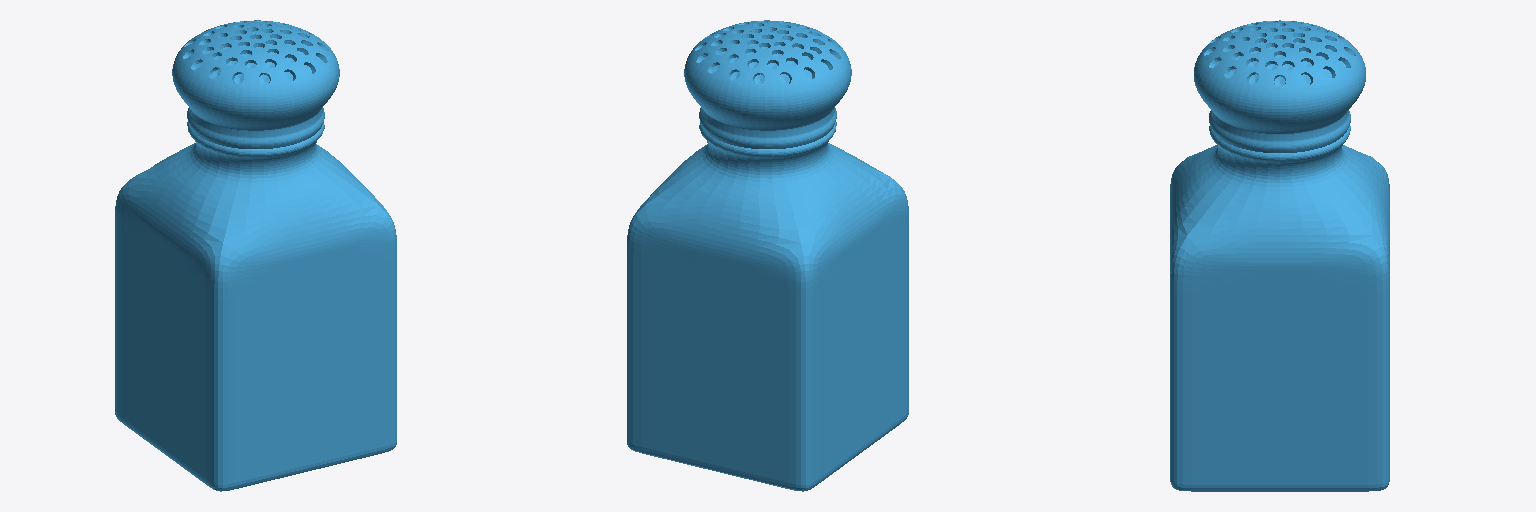
URDF robot description (partnet_fed045d07c91bb2723901b5a0f119b35):
<?xml version="1.0" ?>
<robot name="partnet_fed045d07c91bb2723901b5a0f119b35">
	<link name="base"/>
	<link name="link_0">
		<visual name="container-3">
			<origin xyz="0 0 0"/>
			<geometry>
				<mesh filename="textured_objs/20405_Square_Salt_Shaker_V2.obj"/>
			</geometry>
		</visual>
		<collision>
			<origin xyz="0 0 0"/>
			<geometry>
				<mesh filename="textured_objs/20405_Square_Salt_Shaker_V2.obj"/>
			</geometry>
		</collision>
	</link>
	<joint name="joint_0" type="fixed">
		<origin rpy="0 0 -1.570796326794897" xyz="0 0 0"/>
		<child link="link_0"/>
		<parent link="base"/>
	</joint>
</robot>

--- Facts derived from the render (not from the file) ---
3 views of the same robot in one strip: view 1: azimuth 30°, elevation 25°; view 2: azimuth 150°, elevation 25°; view 3: azimuth 270°, elevation 25° (orthographic).
Robot: partnet_fed045d07c91bb2723901b5a0f119b35 — 2 links, 1 joints (1 fixed); root link base; default pose: all joints at 0.
Links seen in each view (by area): view 1: link_0; view 2: link_0; view 3: link_0.
Link boxes in pixels (x1,y1,x2,y2): link_0: (115, 20, 396, 491); link_0: (627, 20, 908, 491); link_0: (1170, 20, 1389, 491).
Bounding box of the posed robot: 4.76 × 4.76 × 9.8 m (x, y, z).
Meshes: 1 distinct files referenced, 1 mesh visuals loaded (1 OBJ).
